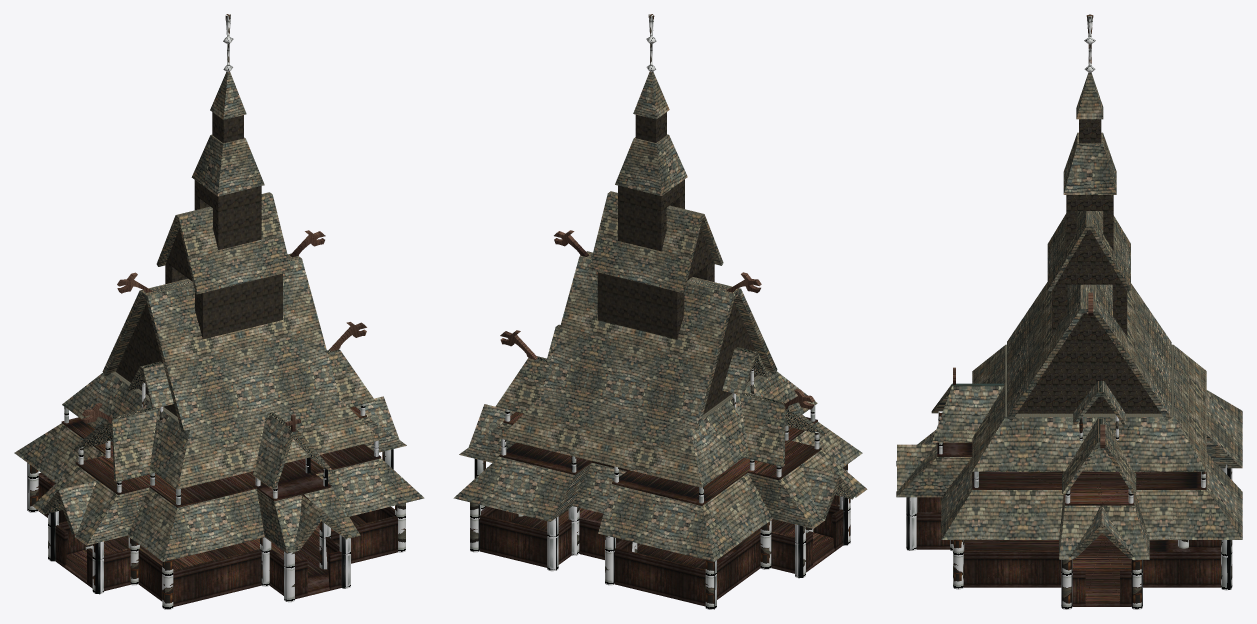
Rendered from Temple.obj.
The picture shows the model from 3 angles, left to right: view 1: azimuth 30°, elevation 25°; view 2: azimuth 150°, elevation 25°; view 3: azimuth 270°, elevation 25°; orthographic projection.
Parts seen in each view (by area): view 1: Box006, wall, wall_sup, pillar, ornement; view 2: Box006, wall, wall_sup, pillar, ornement; view 3: Box006, wall, wall_sup, pillar.
Boxes of the visible parts, <box> form: Box006: <box>14,72,424,561</box>; wall: <box>38,406,397,606</box>; wall_sup: <box>116,112,282,416</box>; pillar: <box>27,14,405,609</box>; ornement: <box>82,230,366,423</box>; Box006: <box>453,72,867,561</box>; wall: <box>479,412,843,606</box>; wall_sup: <box>597,112,757,414</box>; pillar: <box>470,14,850,609</box>; ornement: <box>500,230,814,409</box>; Box006: <box>896,72,1242,559</box>; wall: <box>916,442,1220,606</box>; wall_sup: <box>1017,119,1160,413</box>; pillar: <box>906,14,1232,609</box>.
Bounding box in the file's own units: 30.94 × 44.26 × 26.78.
